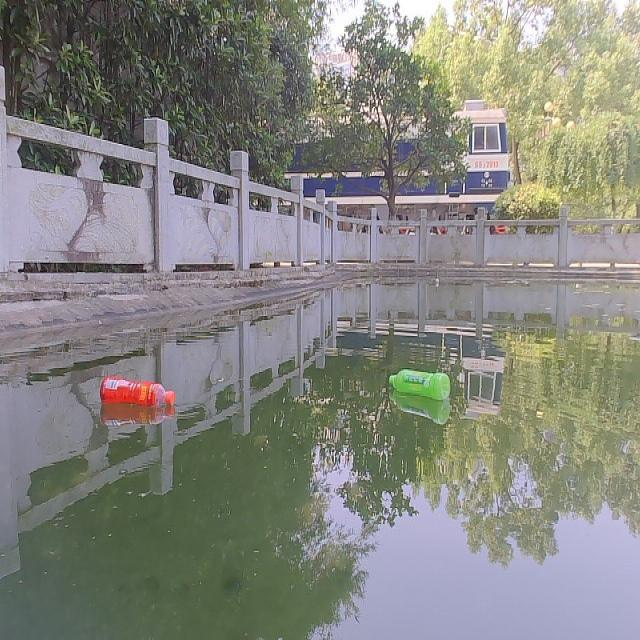bottle: (98, 374, 176, 409), (387, 366, 449, 398)
